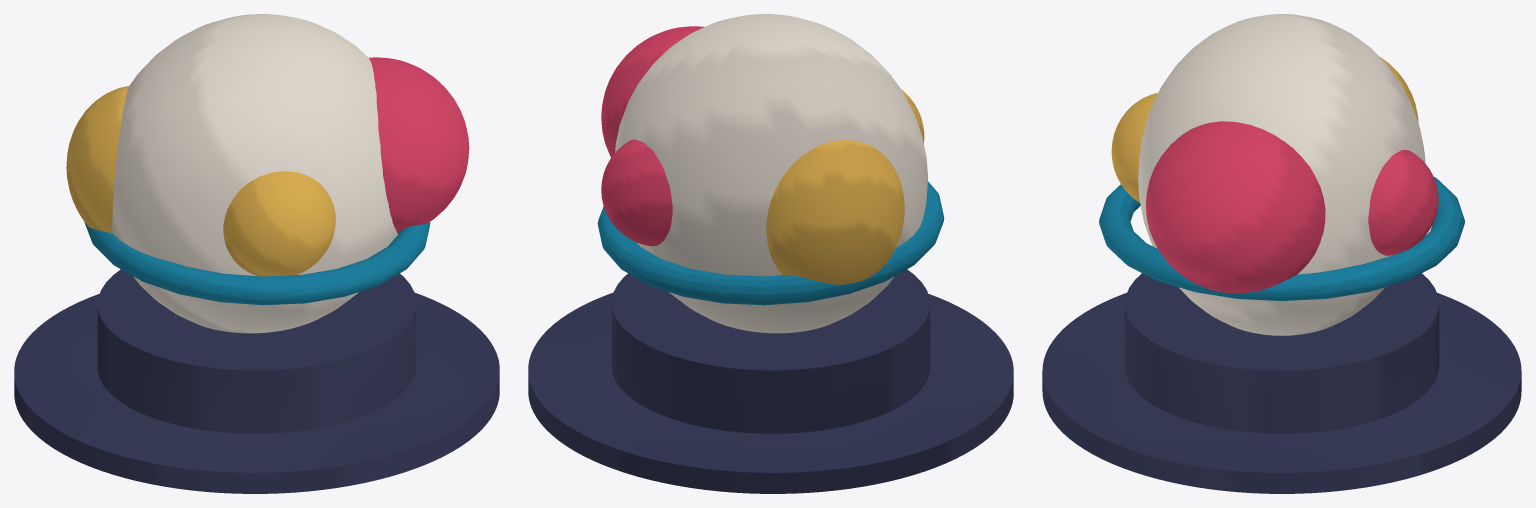
The model's file is 1091_古文观止_黄州赤壁.glb.
3 views of the same model, side by side, from view 1: azimuth 30°, elevation 25°; view 2: azimuth 150°, elevation 25°; view 3: azimuth 270°, elevation 25° (orthographic).
Visible parts, largest first — view 1: card_1091; view 2: card_1091; view 3: card_1091.
Boxes of the visible parts, left/top/right/bottom form: card_1091: left=14, top=14, right=499, bottom=493; card_1091: left=528, top=14, right=1013, bottom=493; card_1091: left=1042, top=14, right=1521, bottom=493.
Bounding box in the file's own units: 1.21 × 1 × 1.2.
